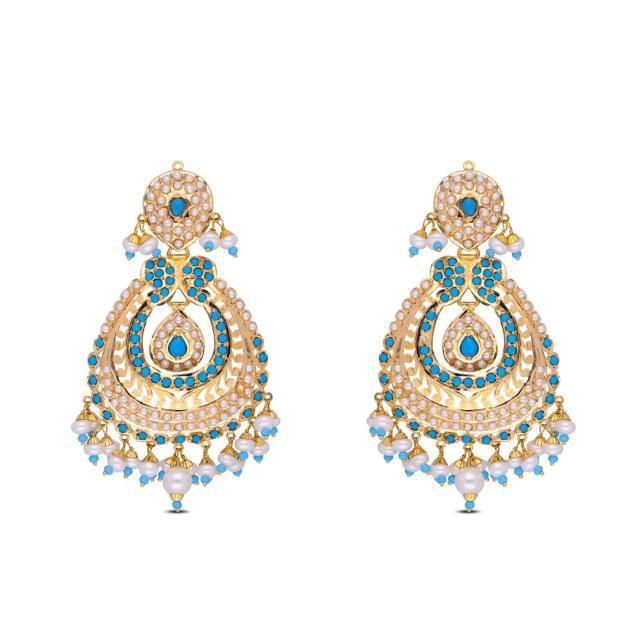missing gem: (419, 333, 430, 342), (236, 384, 244, 393), (183, 277, 191, 284)
